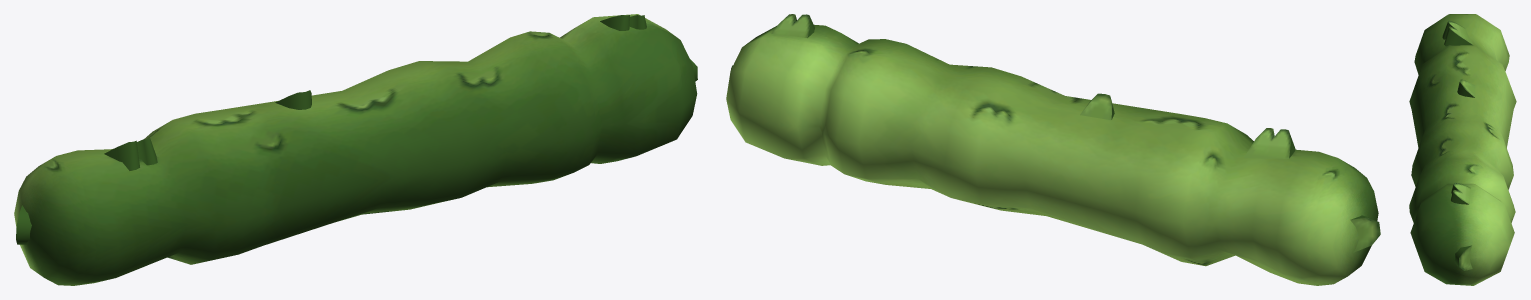
File: Shrub.fbx
The picture shows the model from 3 angles, left to right: view 1: azimuth 30°, elevation 25°; view 2: azimuth 150°, elevation 25°; view 3: azimuth 270°, elevation 25°; orthographic projection. The views are drawn at different scales.
Parts seen in each view (by area): view 1: Shrub; view 2: Shrub; view 3: Shrub.
Part boxes in pixels (x1,y1,x2,y2): Shrub: [14, 14, 697, 285]; Shrub: [726, 14, 1380, 285]; Shrub: [1409, 14, 1516, 285].
Bounding box in the file's own units: 110 × 22.44 × 22.23.
